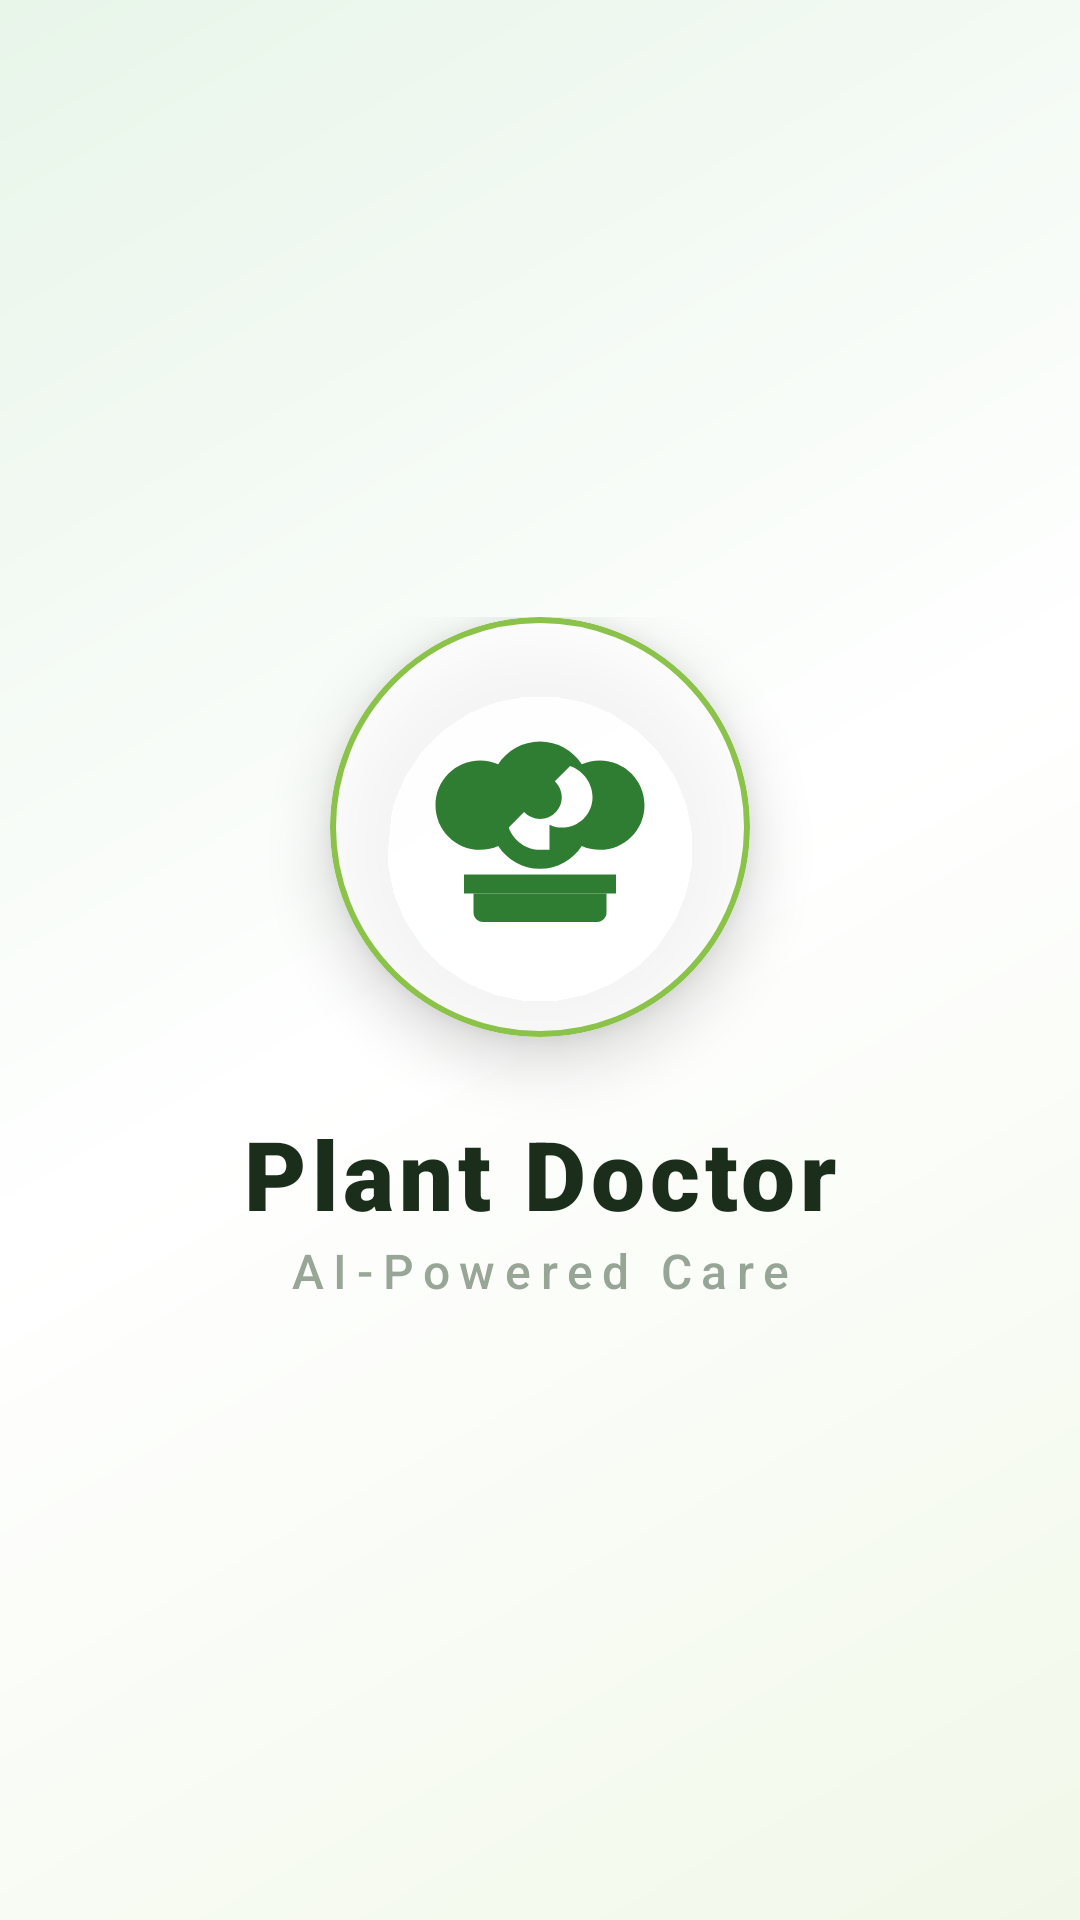

Screen size 1080×1920. Icon name, then its box in pixels as (x1, y1, x2, y2):
garden: (435, 741, 645, 922)
